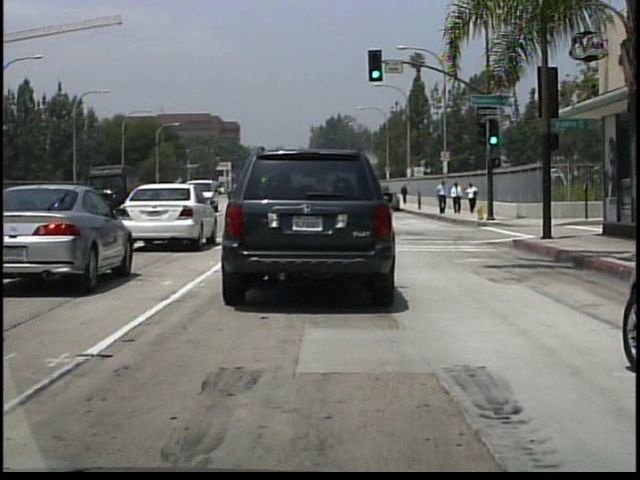person: (438, 178, 452, 217), (468, 181, 481, 215), (451, 183, 464, 217), (400, 183, 410, 206)
